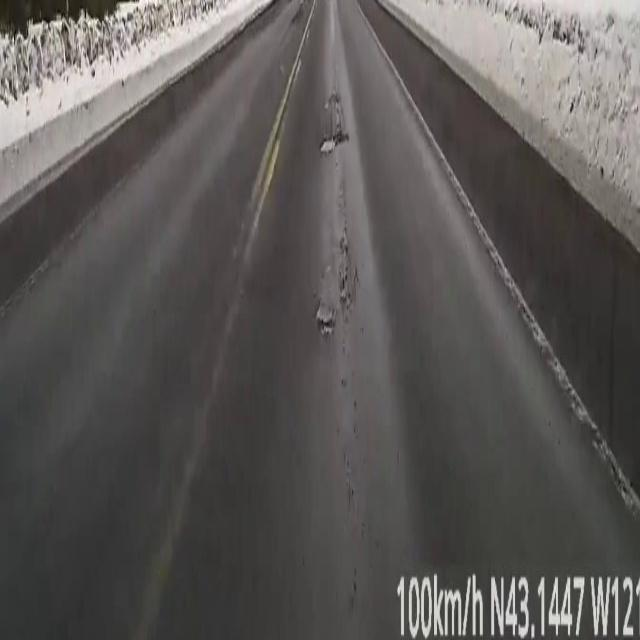pothole: (316, 300, 336, 331), (320, 134, 345, 146)
